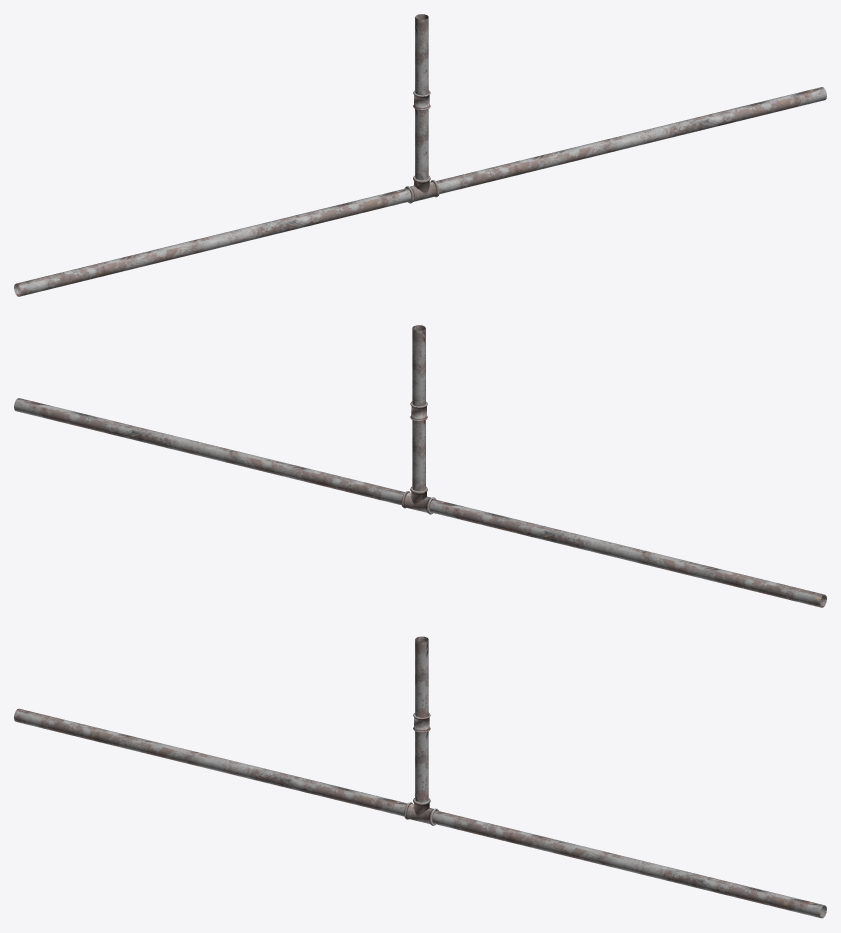
File: rusted_pipe.glb
3 renders of one model, top to bottom at view 1: azimuth 30°, elevation 25°; view 2: azimuth 150°, elevation 25°; view 3: azimuth 330°, elevation 25°, orthographic.
Parts seen in each view (by area): view 1: pipe_0.002; view 2: pipe_0.002; view 3: pipe_0.002.
Part boxes in pixels (bbox=[...]): pipe_0.002: bbox=[14, 14, 826, 296]; pipe_0.002: bbox=[14, 325, 826, 607]; pipe_0.002: bbox=[14, 636, 826, 918].
Size of the model in its own units: 2.05 by 0.4439 by 0.0389.
Materials: 3 (3 with a texture image).
